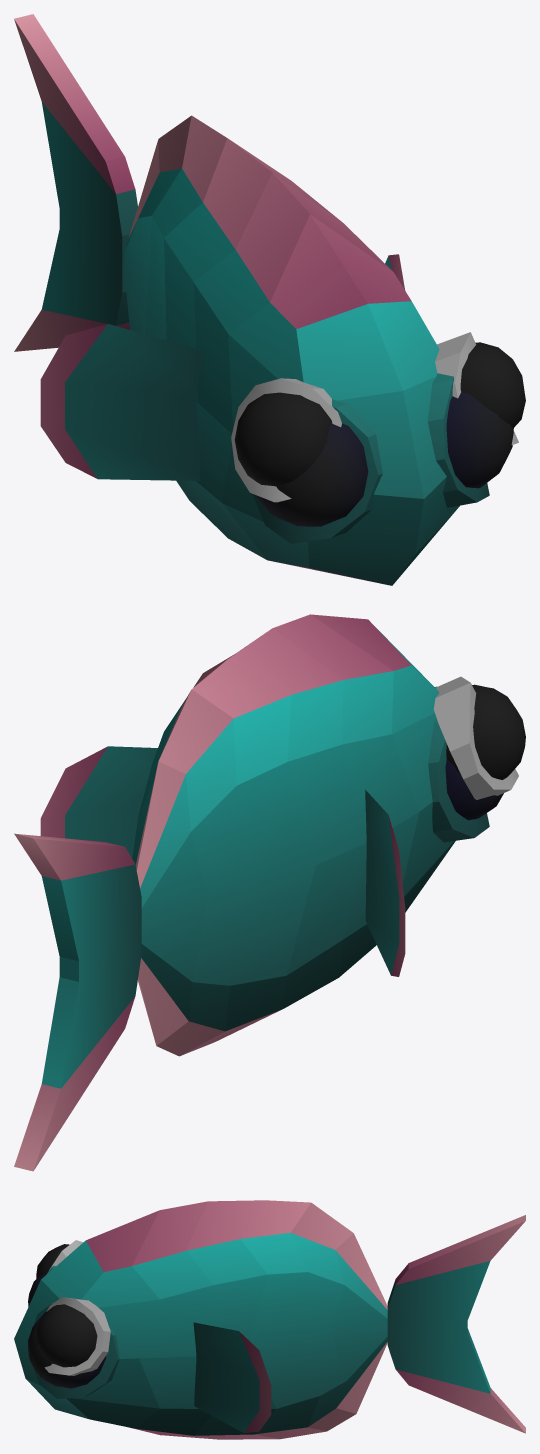
Rendered from Fish MDL 2.fbx.
3 views of the same model, one above another, from view 1: azimuth 30°, elevation 25°; view 2: azimuth 150°, elevation 25°; view 3: azimuth 270°, elevation 25° (orthographic). The views are drawn at different scales.
Visible parts, largest first — view 1: pCube1, pPlane6, pCube3, pCube2 (×3), pCylinder1 (×3), pCube4, pCylinder2; view 2: pCube1, pCube3, pPlane5, pPlane6, pCylinder2, pCube4, pCylinder1, pCube2; view 3: pCube1, pCube3, pPlane5, pCube2 (×2), pCylinder1 (×2), pCube4.
Part boxes in pixels (left/top/right/bottom): pCube1: left=124, top=115, right=459, bottom=585; pPlane6: left=40, top=324, right=202, bottom=480; pCube3: left=14, top=14, right=137, bottom=351; pCube2 (×3): left=255, top=342, right=525, bottom=526; pCylinder1 (×3): left=252, top=332, right=518, bottom=543; pCube4: left=234, top=392, right=332, bottom=486; pCylinder2: left=231, top=378, right=341, bottom=502; pCube1: left=132, top=614, right=455, bottom=1056; pCube3: left=14, top=833, right=141, bottom=1171; pPlane5: left=40, top=746, right=157, bottom=858; pPlane6: left=365, top=789, right=405, bottom=976; pCylinder2: left=433, top=676, right=518, bottom=799; pCube4: left=446, top=684, right=525, bottom=779; pCylinder1: left=428, top=686, right=489, bottom=842; pCube2: left=445, top=759, right=503, bottom=820; pCube1: left=14, top=1200, right=387, bottom=1439; pCube3: left=387, top=1215, right=525, bottom=1433; pPlane5: left=193, top=1322, right=271, bottom=1433; pCube2 (×2): left=27, top=1304, right=105, bottom=1388; pCylinder1 (×2): left=33, top=1297, right=119, bottom=1398; pCube4: left=36, top=1244, right=69, bottom=1278.
Size of the model in its own units: 43.87 by 43.08 by 83.49.
